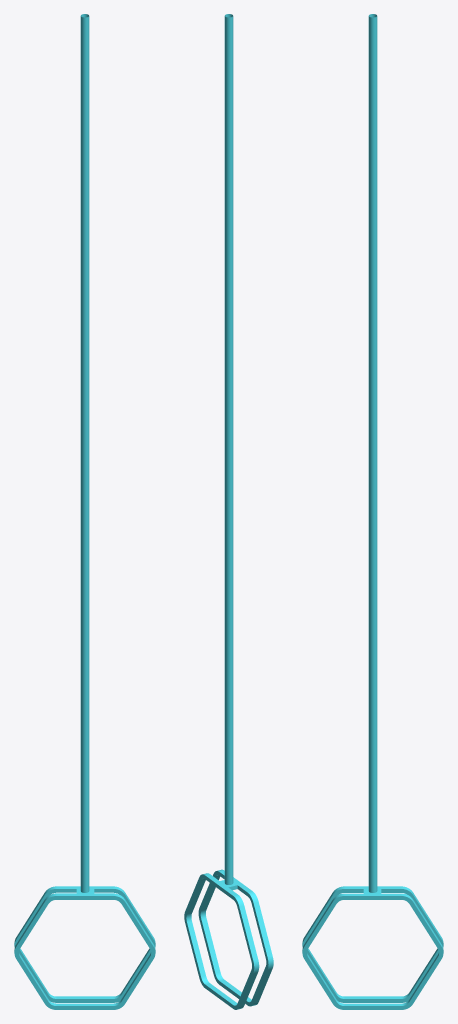
File: cutter7_pencil.fbx
3 renders of one model, left to right at view 1: azimuth 90°, elevation 25°; view 2: azimuth 210°, elevation 25°; view 3: azimuth 270°, elevation 25°, orthographic.
Visible parts, largest first — view 1: Cutter7_Pencil; view 2: Cutter7_Pencil; view 3: Cutter7_Pencil.
Part boxes in pixels (<box>): Cutter7_Pencil: <box>14,14,155,1009</box>; Cutter7_Pencil: <box>184,14,273,1009</box>; Cutter7_Pencil: <box>302,14,443,1009</box>.
Bounding box in the file's own units: 16.77 × 807 × 104.
